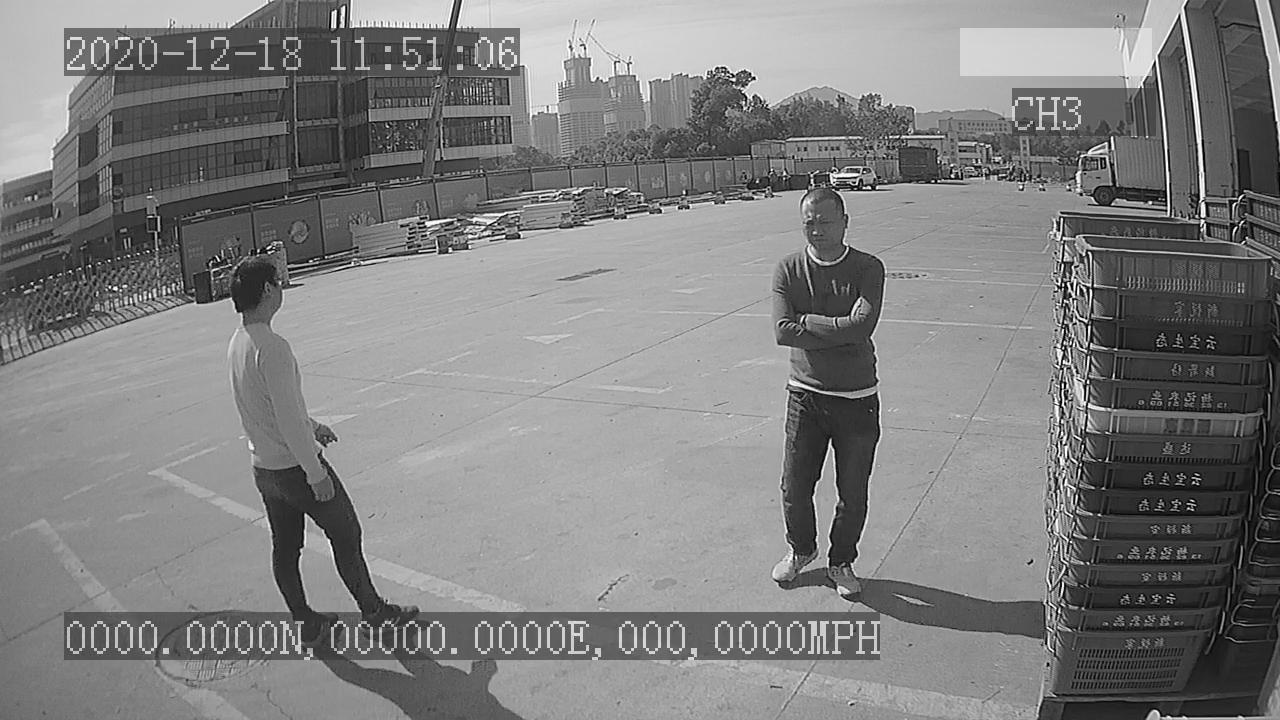person: (761, 179, 893, 606)
